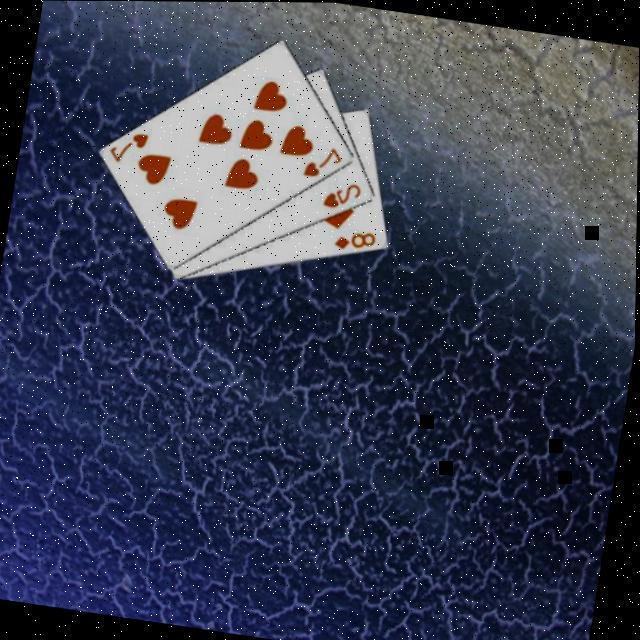2H: (317, 176, 363, 216)
7H: (102, 126, 152, 170), (297, 141, 345, 184)
8D: (329, 225, 378, 257)
